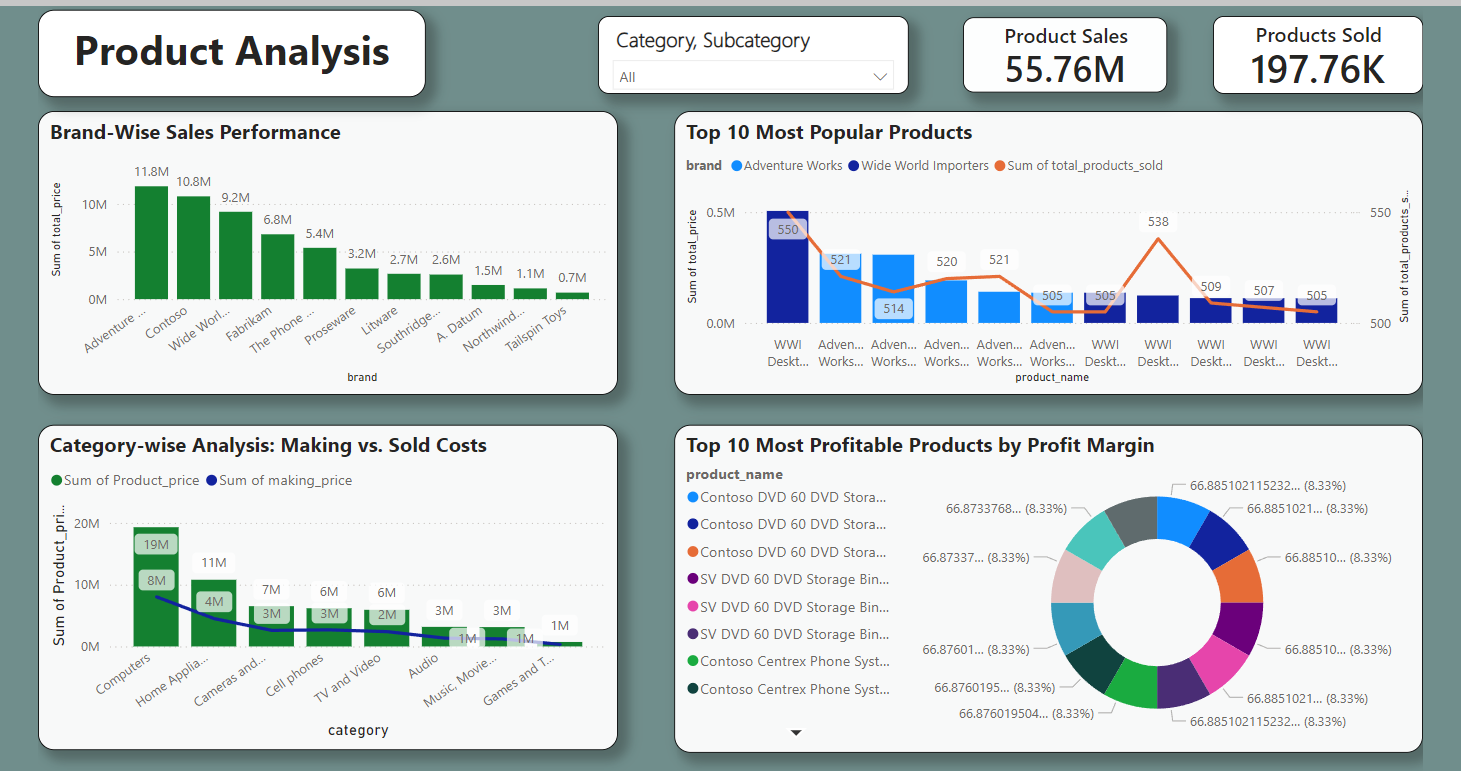

What the dashboard file says about the page in this screenshot:
{"tool":"powerbi","page":{"name":"Product Analysis","canvas":[1280,720],"ordinal":2},"visuals":[{"type":"columnChart","title":"Brand-Wise Sales Performance","fields":{"Category":["Product Popularity.brand"],"Y":["Sum(Product Popularity.total_price)"]},"box":[0,97,536.1,262.5],"z":0},{"type":"lineStackedColumnComboChart","title":"Top 10 Most Popular Products","fields":{"Category":["Product Popularity.product_name"],"Y2":["Sum(Product Popularity.total_products_sold)"],"Y":["Sum(Product Popularity.total_price)"],"Series":["Product Popularity.brand"]},"box":[588.4,97,691.6,262.5],"z":1000},{"type":"lineClusteredColumnComboChart","title":"Category-wise Analysis: Making vs. Sold Costs","fields":{"Category":["Profitability.category"],"Y2":["Sum(Profitability.making_price)"],"Y":["Sum(Profitability.Product_price)"]},"box":[0,386.9,536.1,301],"z":2000},{"type":"donutChart","title":"Top 10 Most Profitable Products by Profit Margin","fields":{"Category":["Profitability.product_name"],"Y":["Sum(Profitability.profit_margin)"]},"box":[588.4,386.9,691.6,303.5],"z":3000},{"type":"slicer","fields":{"Values":["Profitability.category","Profitability.subcategory"]},"box":[517.5,8.7,287.4,72.1],"z":4000},{"type":"card","title":"Products Sold","fields":{"Values":["Sum(Product Popularity.total_products_sold)"]},"box":[1086,8.7,194.1,72.1],"z":5000},{"type":"card","title":"Product Sales","fields":{"Values":["Sum(Product Popularity.total_price)"]},"box":[854.6,10,189.1,69.7],"z":6000},{"type":"textbox","box":[0,3.7,358.3,80.9],"z":7000}]}

Visuals, with their boxes on the page's 1280x720 design canvas (x1, y1, x2, y2). These are canvas units, not pixel positions in the 1461x771 screenshot, which may show the page scaled, cropped or inside an application window:
"Brand-Wise Sales Performance" columnChart: x1=0 y1=97 x2=536 y2=360
"Top 10 Most Popular Products" lineStackedColumnComboChart: x1=588 y1=97 x2=1280 y2=360
"Category-wise Analysis: Making vs. Sold Costs" lineClusteredColumnComboChart: x1=0 y1=387 x2=536 y2=688
"Top 10 Most Profitable Products by Profit Margin" donutChart: x1=588 y1=387 x2=1280 y2=690
slicer - Profitability.category x Profitability.subcategory: x1=518 y1=9 x2=805 y2=81
"Products Sold" card: x1=1086 y1=9 x2=1280 y2=81
"Product Sales" card: x1=855 y1=10 x2=1044 y2=80
textbox: x1=0 y1=4 x2=358 y2=85
